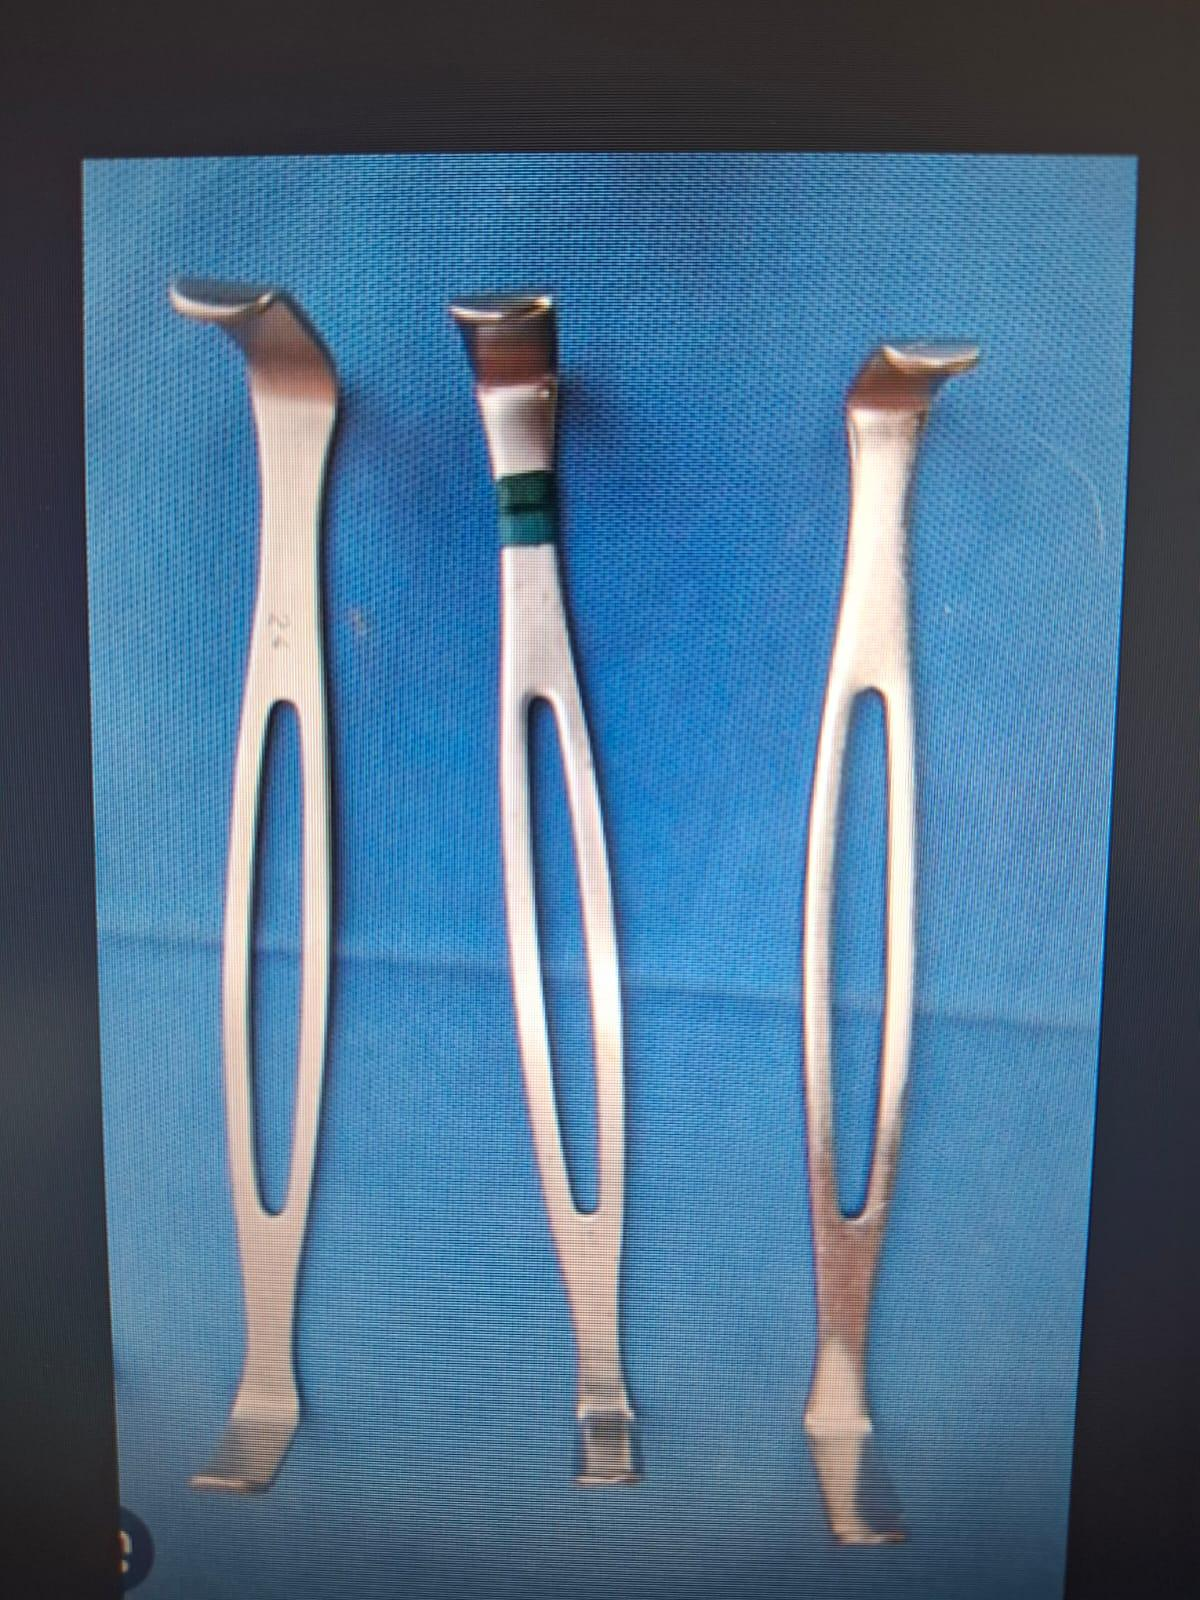Army Navy Retractor: (140, 254, 415, 1516), (775, 305, 1010, 1570)
